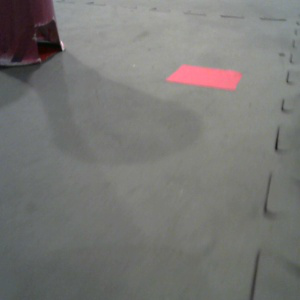middle: (1, 1, 66, 70)
